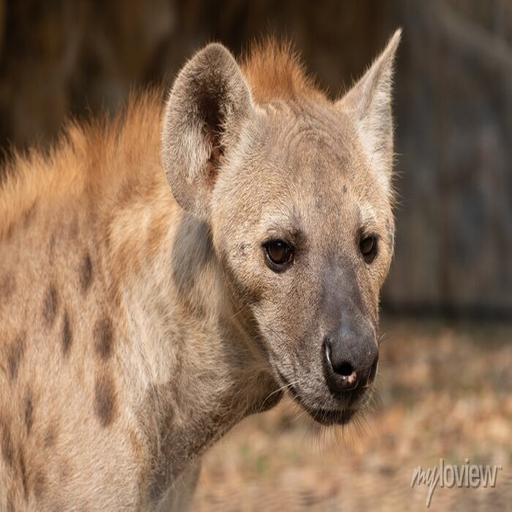Hyena: (0, 22, 404, 512)
